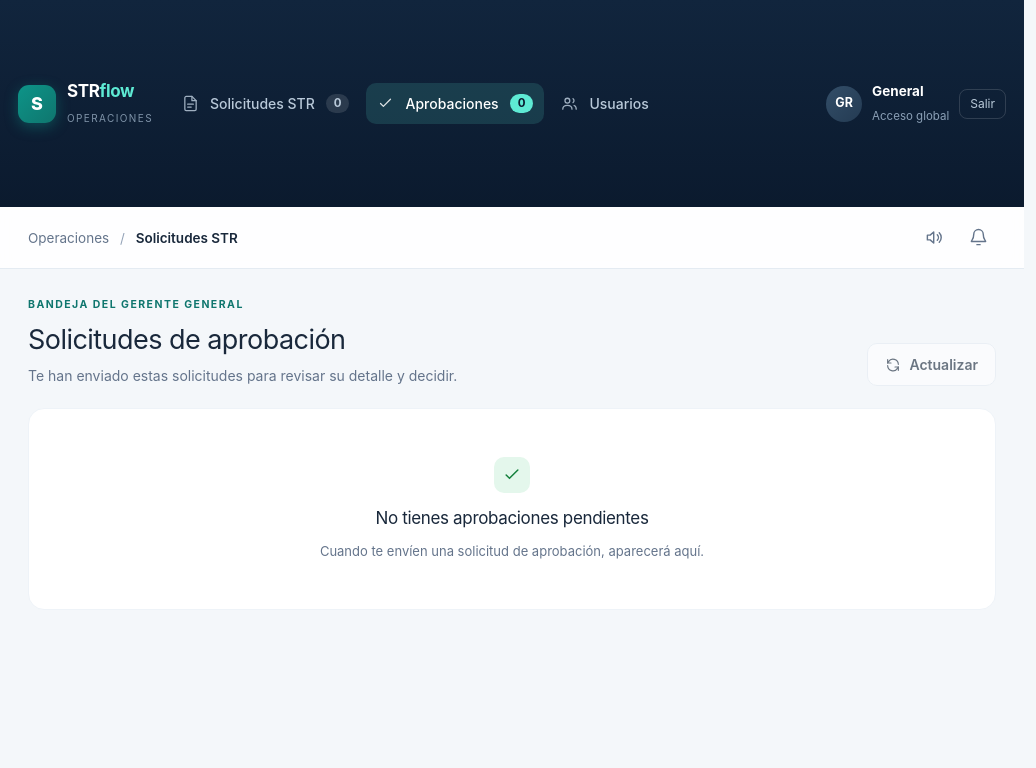
Test: botón de aprobación según el estado › lo oculta cuando ya está aprobada
The image size is (1036, 768).
Click the link "Solicitudes STR 0". click: (266, 104)
box: [182,94,349,113]
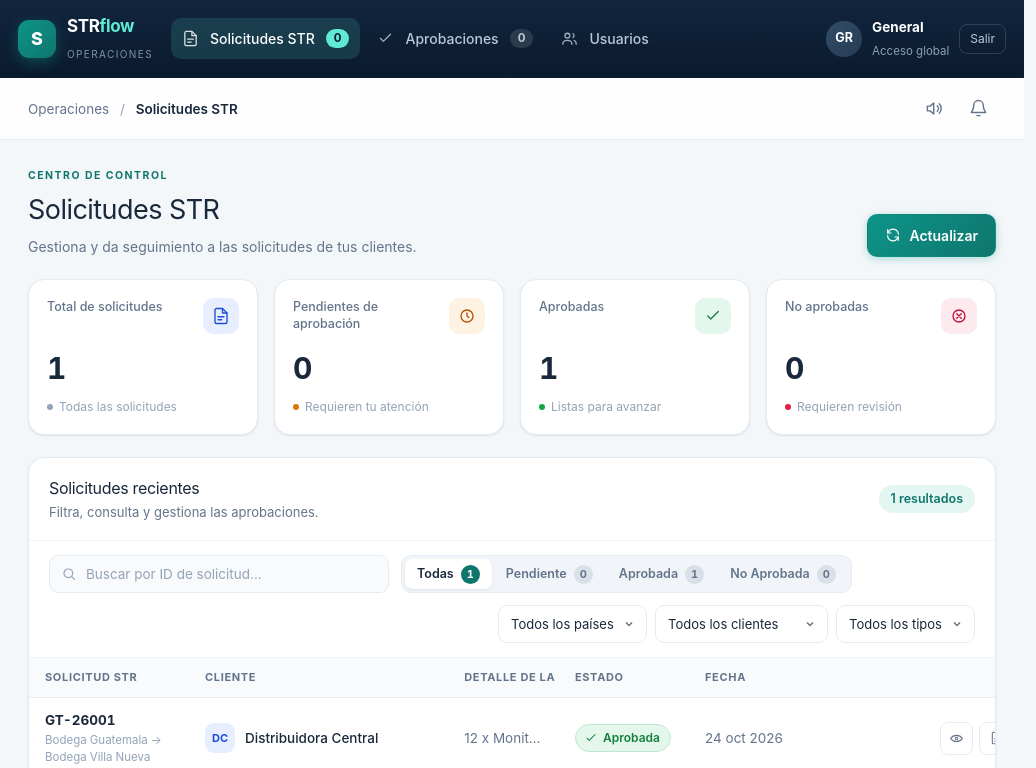
Expected: the button named "Ver detalles" is shown, [940,722,973,755]
